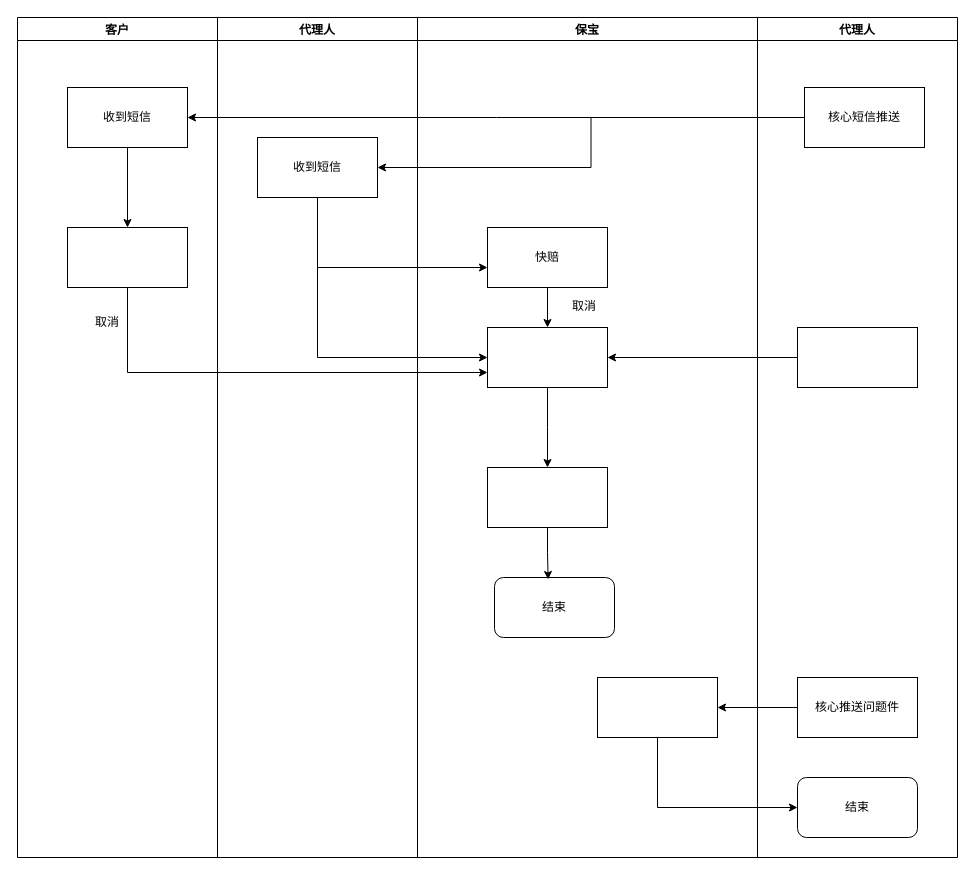
This 975x875 diagram has some shape labels left out. The centre of each missing label's shape, as x and y in pixels:
"核心推送速赔案件" belongs at (x=857, y=357).
"自助理赔" belongs at (x=127, y=257).
"速赔案件列表 （医疗险预赔）" belongs at (x=547, y=357).
"速赔流程 （医疗险预赔）" belongs at (x=547, y=497).
"问题件" belongs at (x=657, y=707).
